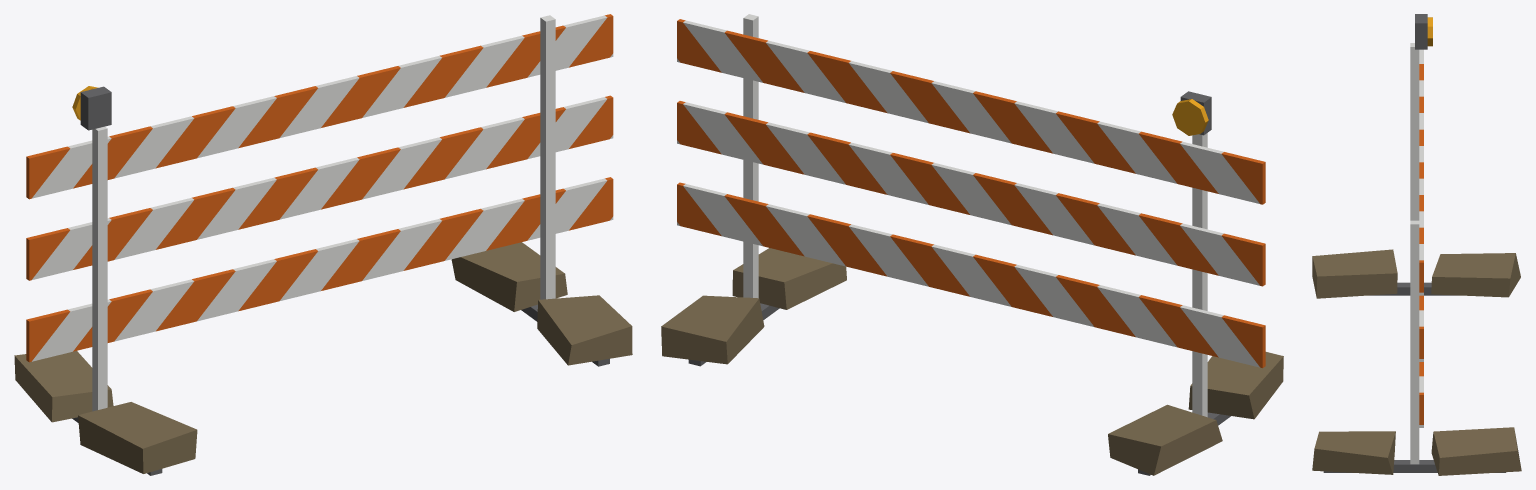
The model's file is road-barrier.glb.
The picture shows the model from 3 angles, left to right: view 1: azimuth 30°, elevation 25°; view 2: azimuth 150°, elevation 25°; view 3: azimuth 270°, elevation 25°; orthographic projection. The views are drawn at different scales.
Parts seen in each view (by area): view 1: RoadBarrier; view 2: RoadBarrier; view 3: RoadBarrier.
Part boxes in pixels (x1,y1,x2,y2): RoadBarrier: (14, 14, 632, 475); RoadBarrier: (661, 14, 1283, 475); RoadBarrier: (1312, 14, 1521, 475).
Size of the model in its own units: 3 by 1.67 by 1.15.
